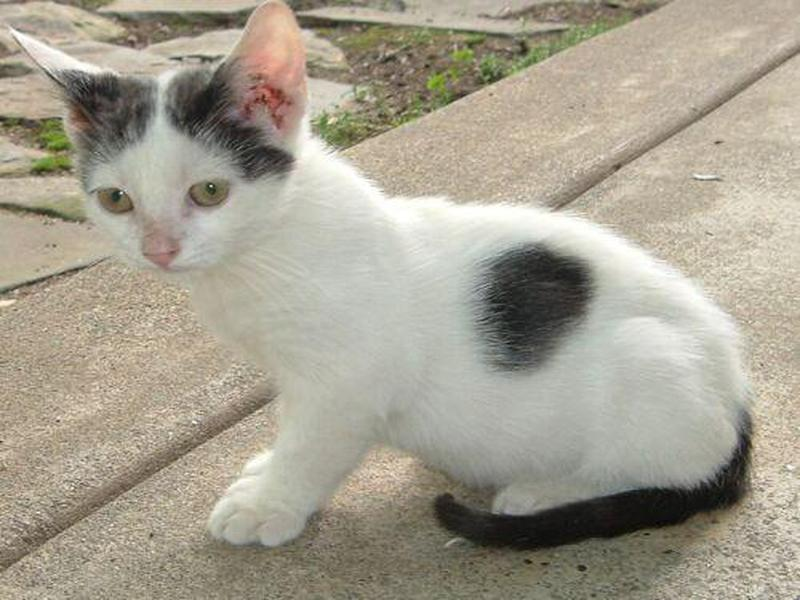cat: (6, 20, 774, 563)
